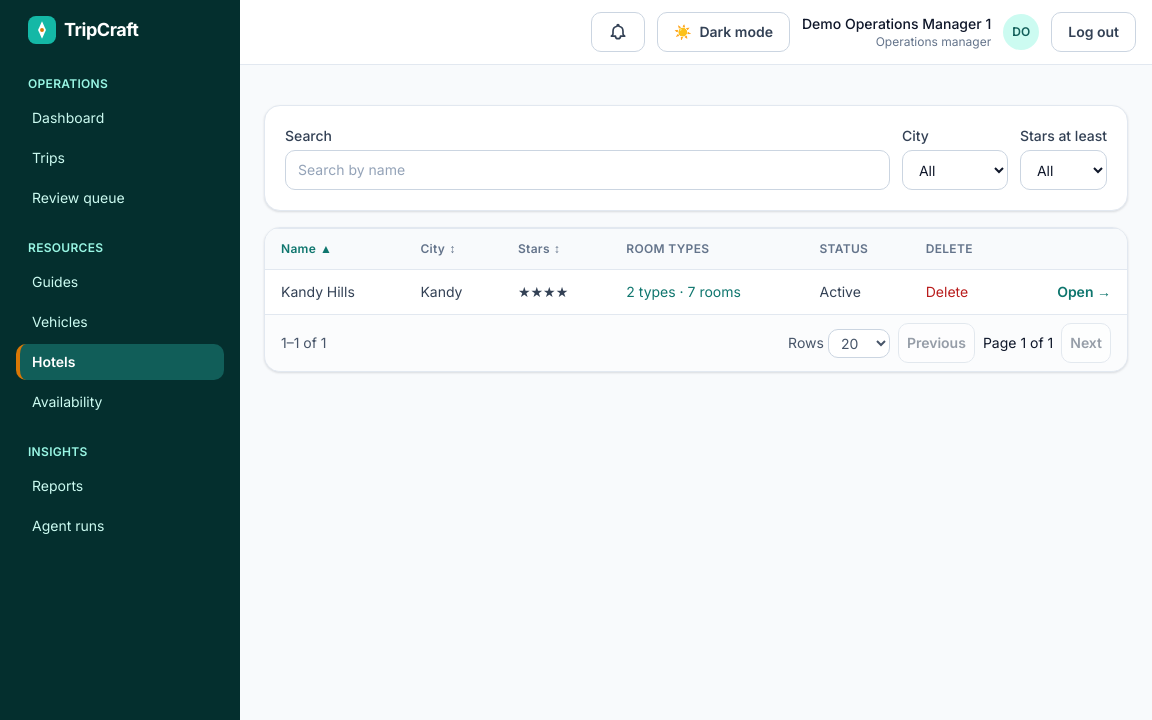
it: Hotel form with room types › keeps the ids of existing room types, adds new ones without an id and leaves removed ones out
Click the button with aria-label "Open Kandy Hills".
click(1084, 292)  # box [1057,282,1111,302]
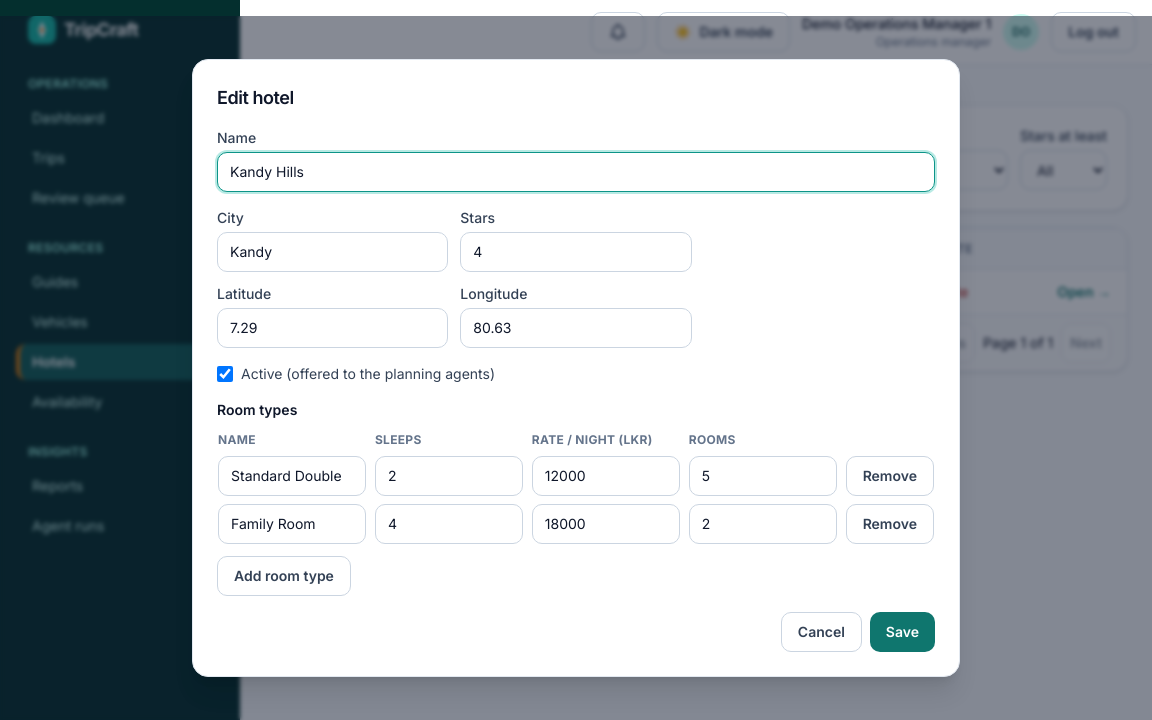
Click the button with aria-label "Remove room type 2".
click(890, 524)  # box [846,504,934,544]
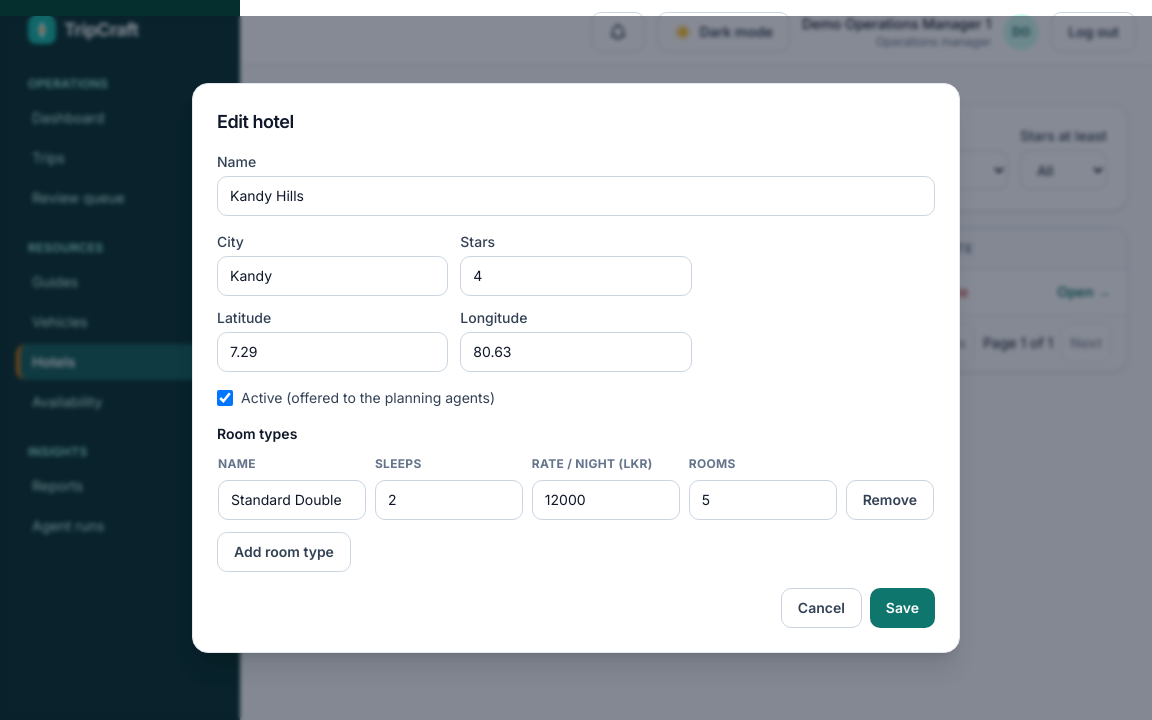
Click the button "Add room type".
click(284, 552)  # box [217,532,351,572]
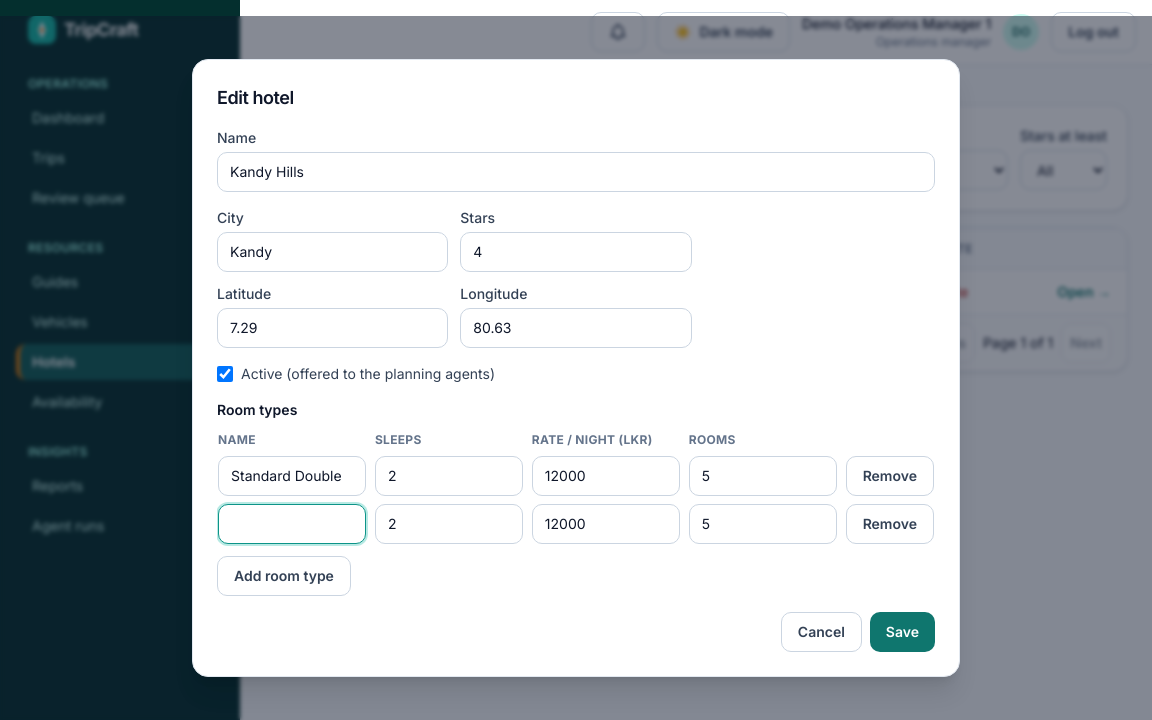
Type "Triple" into the field named "Room type 2 name".
click(292, 524); type("Triple")  # box [218,504,366,544]
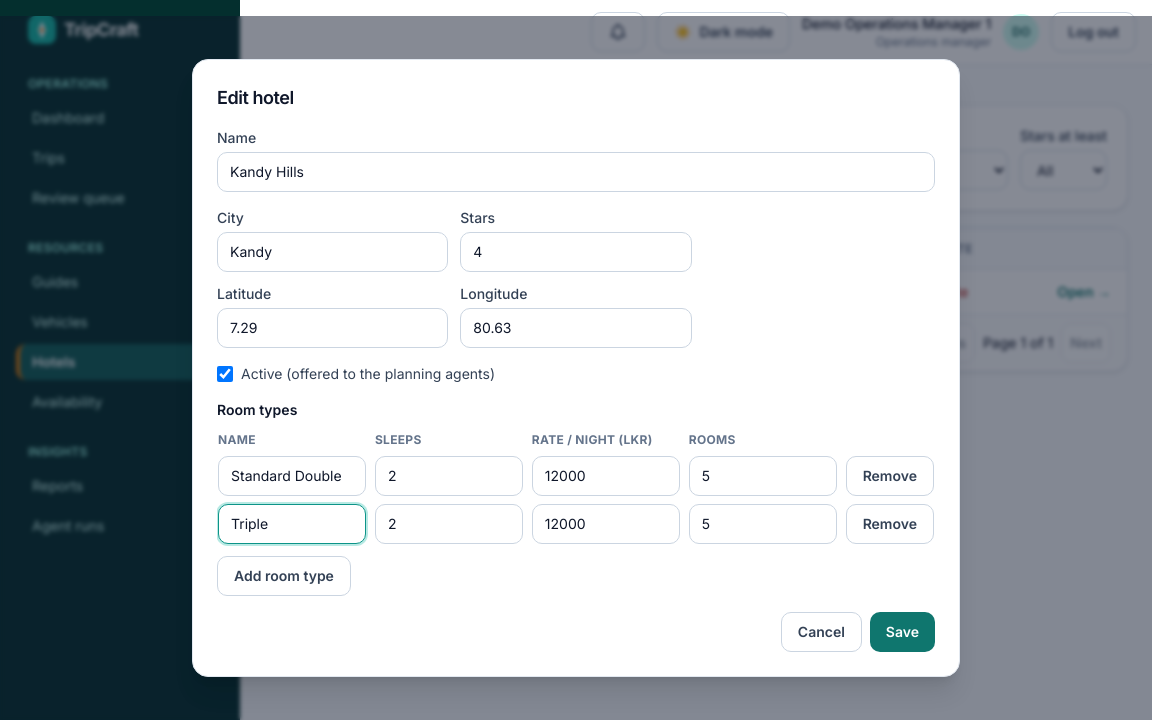
Click the button "Save".
click(902, 632)  # box [870,612,935,652]
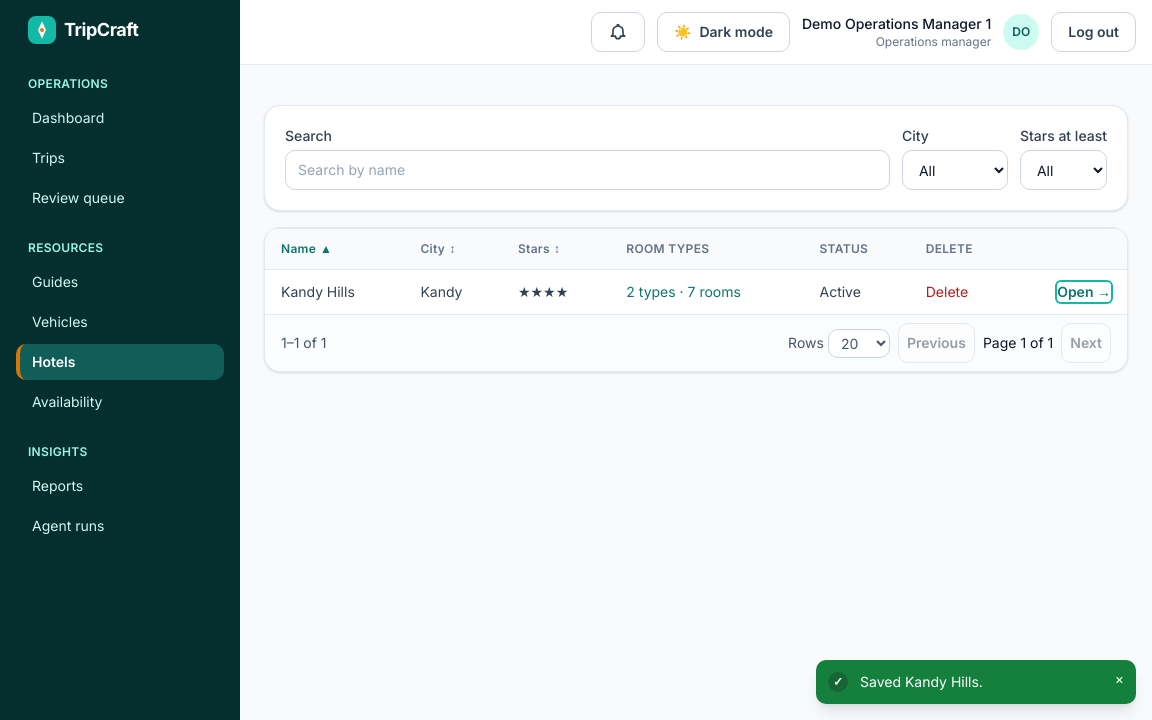
Expected: the text "Saved Kandy Hills." is shown, [860,673,983,690]
